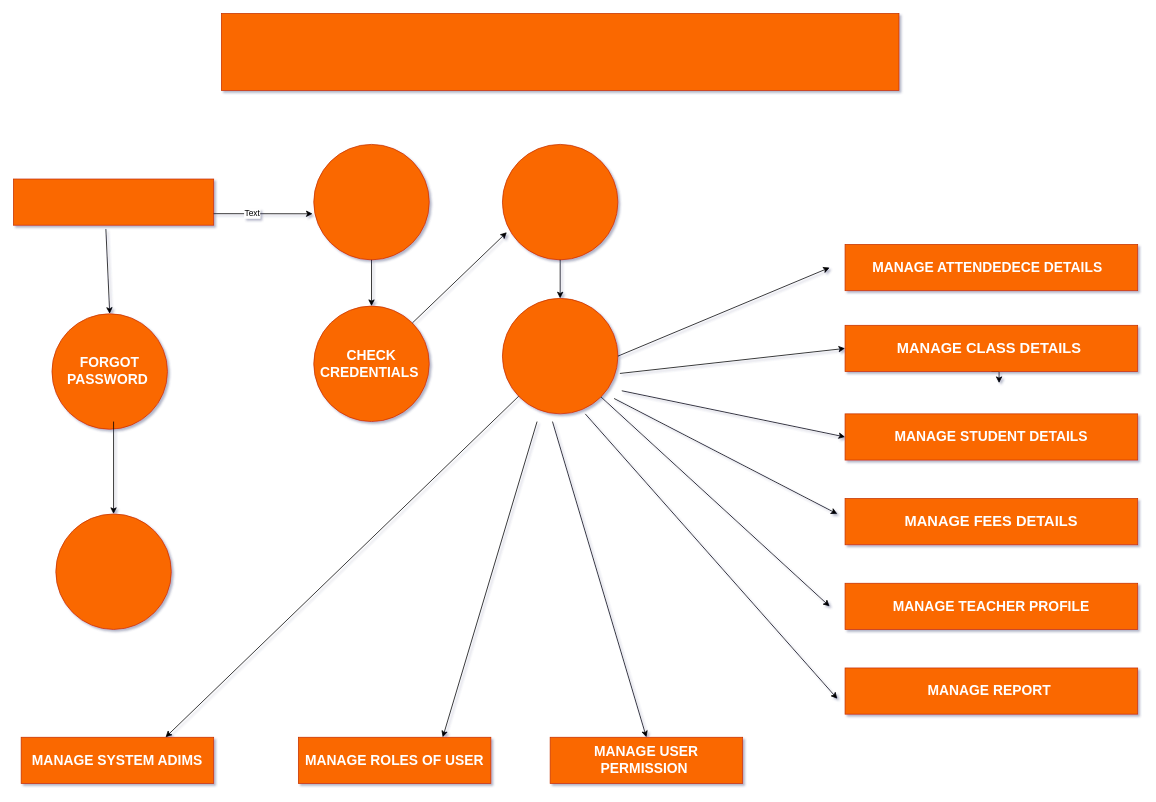
Image size: 1156x802. Some labels were removed from this diagram. The shapes that lost their labels are listed below. From the top down, each one's box as (x1, y1, x2, y2) in pixels, then its label:
(221, 13, 899, 90): STUDENT INFORMATION SYSTEM
(13, 178, 214, 225): ADMIN
(313, 144, 429, 260): LOGIN TO SYSTEM
(502, 144, 618, 260): CHECK ROLE OF ACCESS
(502, 298, 618, 414): MANAGE MODULES
(55, 513, 171, 629): SEND E MAIL TO USER
